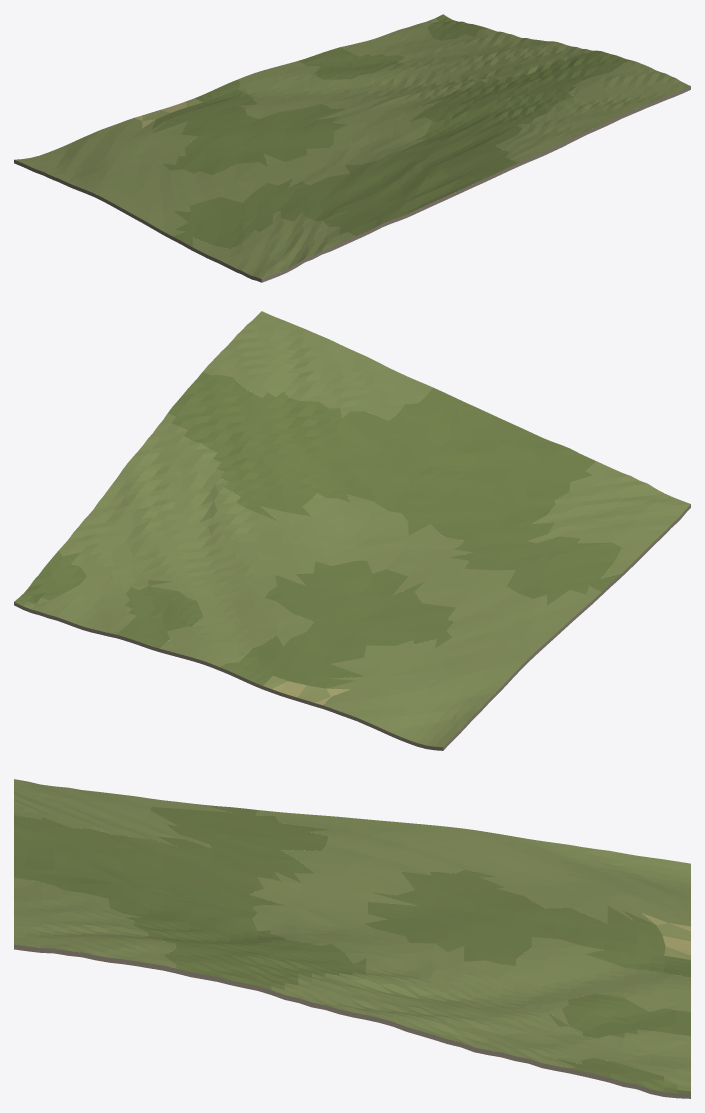
Rendered from parca_+3_-5-uzak.glb.
The picture shows the model from 3 angles, top to bottom: view 1: azimuth 30°, elevation 25°; view 2: azimuth 150°, elevation 25°; view 3: azimuth 270°, elevation 25°; orthographic projection. The views are drawn at different scales.
Visible parts, largest first — view 1: parca_+3_-5_arazi_uzak; view 2: parca_+3_-5_arazi_uzak; view 3: parca_+3_-5_arazi_uzak.
Part boxes in pixels (x1,y1,x2,y2): parca_+3_-5_arazi_uzak: [14, 14, 690, 282]; parca_+3_-5_arazi_uzak: [14, 311, 690, 750]; parca_+3_-5_arazi_uzak: [14, 779, 690, 1098].
Size of the model in its own units: 1000 by 347 by 1000.
